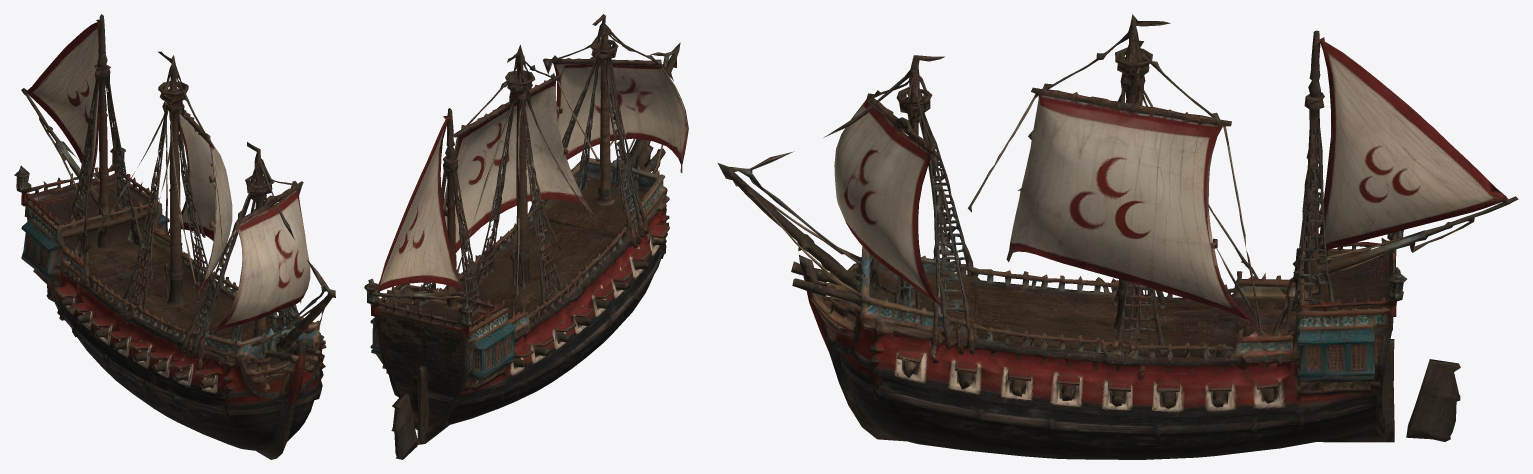
Rendered from osmanli-burtonu-girit-savasi-1645-1669-tripo-v1.glb.
3 renders of one model, left to right at view 1: azimuth 30°, elevation 25°; view 2: azimuth 150°, elevation 25°; view 3: azimuth 270°, elevation 25°, orthographic. The views are drawn at different scales.
Parts seen in each view (by area): view 1: tripo_node_63176019-56cb-46d2-a8d9-935512930edf; view 2: tripo_node_63176019-56cb-46d2-a8d9-935512930edf; view 3: tripo_node_63176019-56cb-46d2-a8d9-935512930edf.
Part boxes in pixels (box(x1,y1,x2,y2)): tripo_node_63176019-56cb-46d2-a8d9-935512930edf: box(14, 14, 335, 459); tripo_node_63176019-56cb-46d2-a8d9-935512930edf: box(364, 14, 688, 459); tripo_node_63176019-56cb-46d2-a8d9-935512930edf: box(717, 14, 1518, 459).
Bounding box in the file's own units: 0.2462 × 0.5896 × 1.
Materials: 1 (1 with a texture image).
